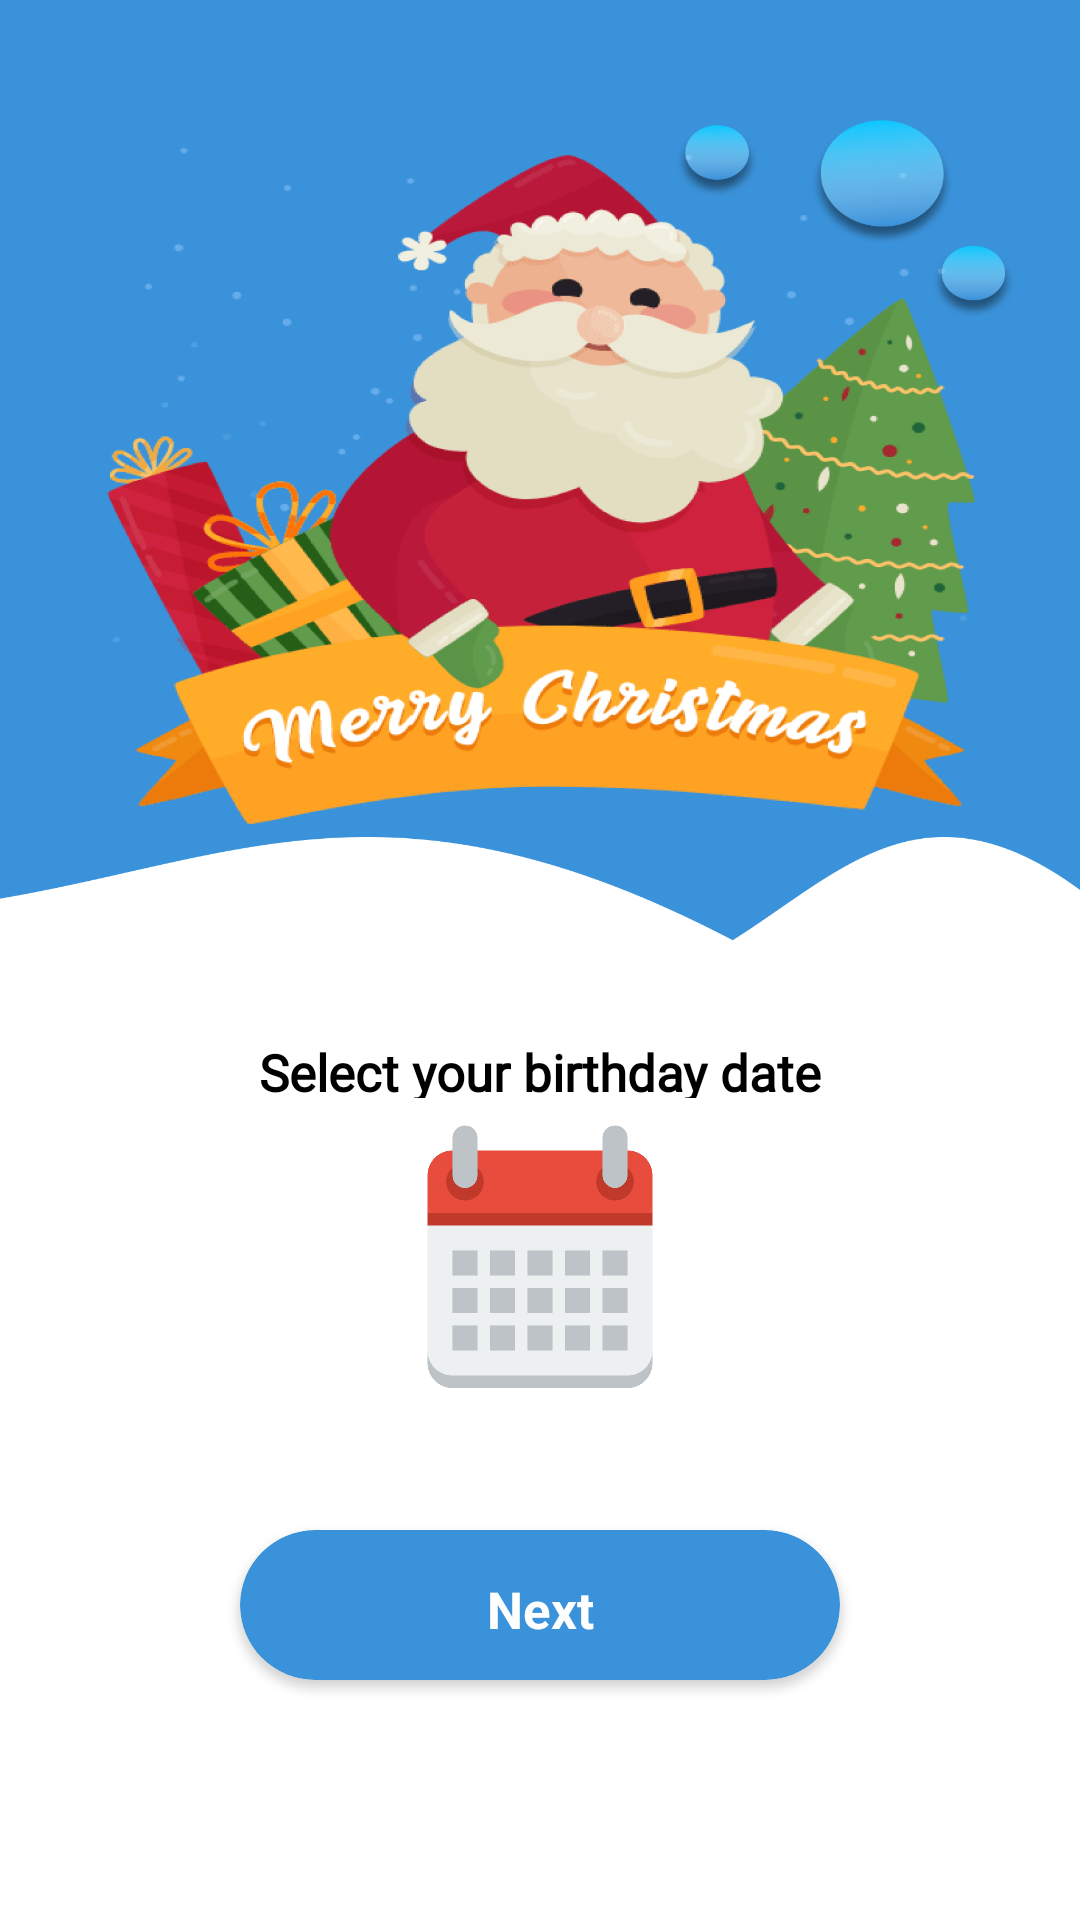

Named icons in this screenshot (1080×1920) and their centers, [x,y]:
calendar: [540,1256]
